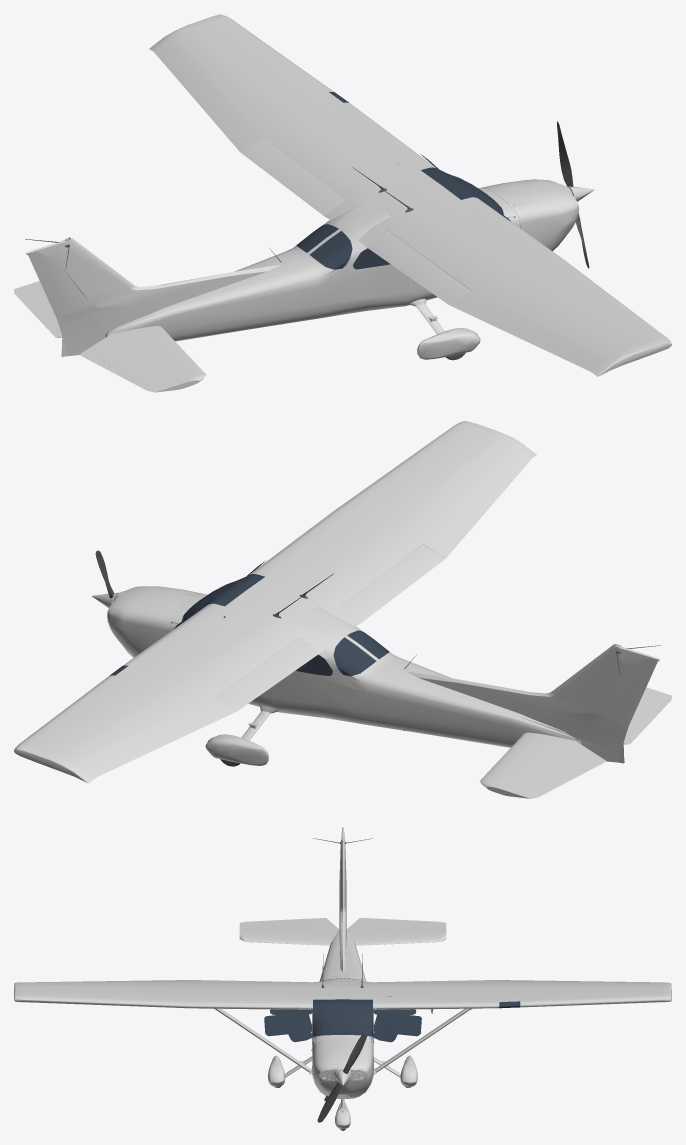
The picture shows the model from 3 angles, top to bottom: view 1: azimuth 30°, elevation 25°; view 2: azimuth 150°, elevation 25°; view 3: azimuth 270°, elevation 25°; orthographic projection. The views are drawn at different scales.
Visible parts, largest first — view 1: body, glass, spin; view 2: body, glass; view 3: body, glass, spin.
Boxes of the visible parts, box(x1,y1,x2,y2) form: body: box(14, 14, 671, 392); glass: box(296, 92, 510, 269); spin: box(557, 121, 589, 268); body: box(14, 421, 671, 798); glass: box(110, 561, 389, 675); body: box(14, 827, 671, 1129); glass: box(264, 978, 520, 1042); spin: box(317, 1032, 367, 1122).
Bounding box in the file's own units: 1.61 × 0.4737 × 2.2.
